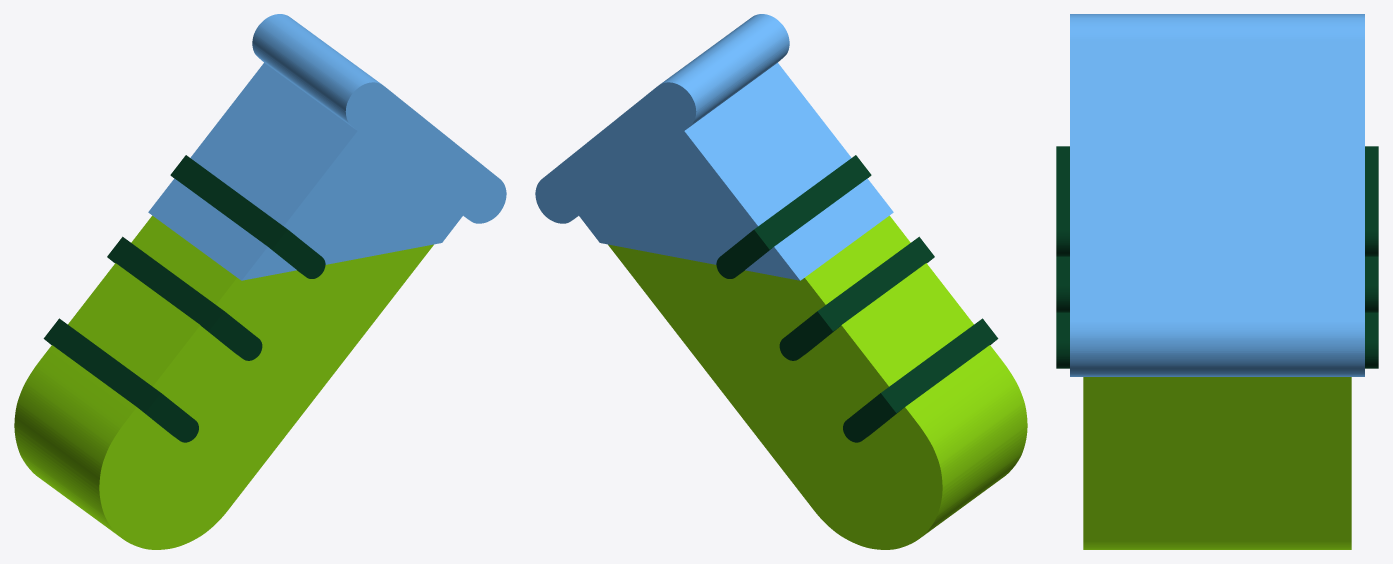
The picture shows the model from 3 angles, left to right: view 1: azimuth 30°, elevation 25°; view 2: azimuth 150°, elevation 25°; view 3: azimuth 270°, elevation 25°; orthographic projection. The views are drawn at different scales.
Parts seen in each view (by area): view 1: U+1F9EA_layer00_obj00, U+1F9EA_layer01_obj00, U+1F9EA_layer02_obj00; view 2: U+1F9EA_layer00_obj00, U+1F9EA_layer01_obj00, U+1F9EA_layer02_obj00; view 3: U+1F9EA_layer01_obj00, U+1F9EA_layer00_obj00, U+1F9EA_layer02_obj00.
Boxes of the visible parts, x1,y1,x2,y2 form: U+1F9EA_layer00_obj00: (14, 215, 433, 549); U+1F9EA_layer01_obj00: (148, 14, 506, 280); U+1F9EA_layer02_obj00: (43, 155, 325, 442); U+1F9EA_layer00_obj00: (608, 215, 1027, 549); U+1F9EA_layer01_obj00: (535, 14, 893, 280); U+1F9EA_layer02_obj00: (716, 155, 998, 442); U+1F9EA_layer01_obj00: (1070, 14, 1364, 376); U+1F9EA_layer00_obj00: (1083, 377, 1351, 549); U+1F9EA_layer02_obj00: (1056, 146, 1378, 368).
Bounding box in the file's own units: 0.5475 × 0.5477 × 0.24.
